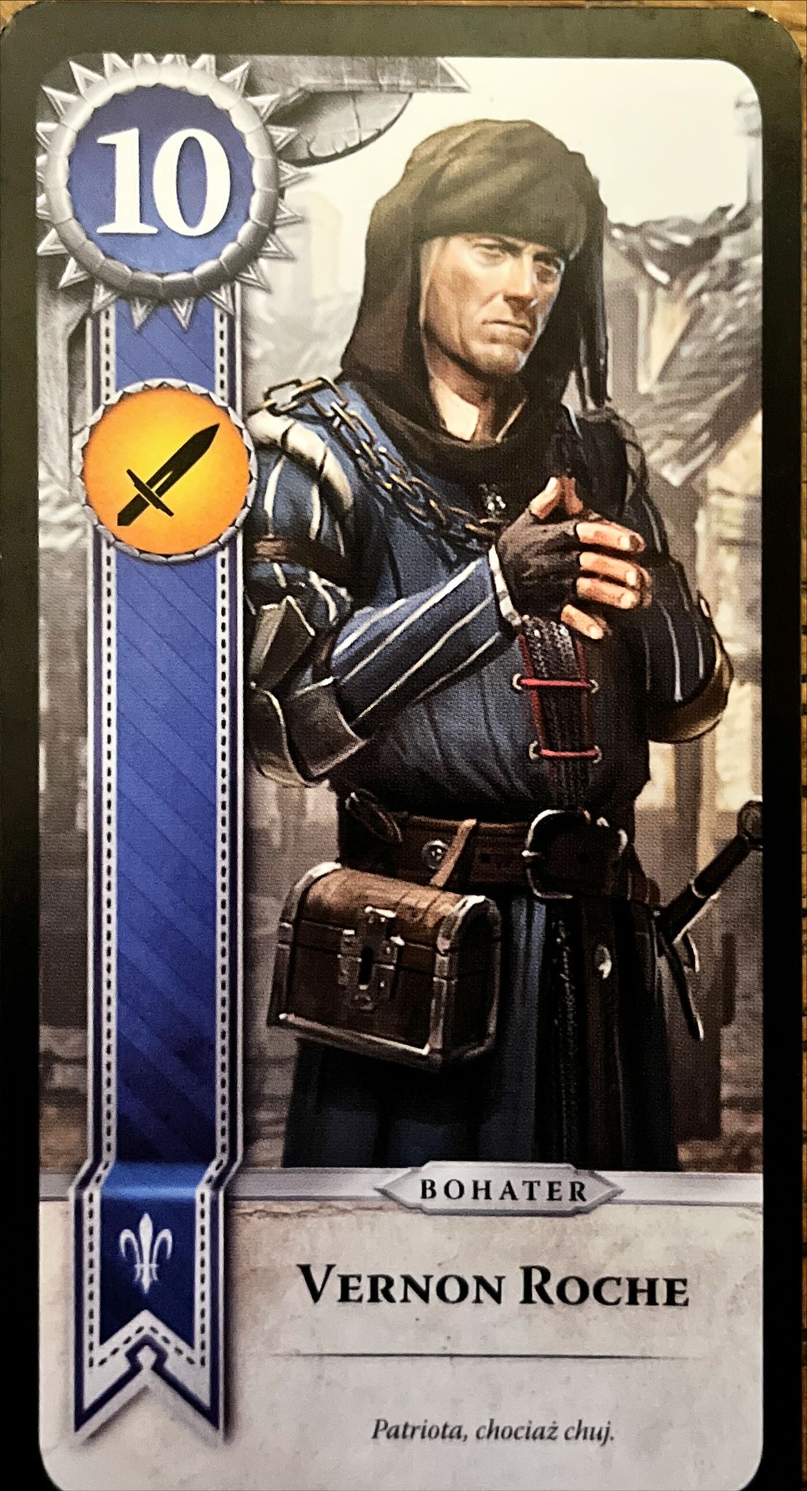10: (36, 37, 311, 332)
bohater: (380, 1157, 619, 1219)
miecz: (78, 380, 258, 563)
